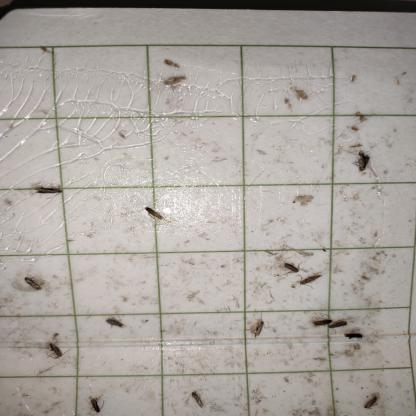prays_oleae: (35, 173, 65, 208), (245, 308, 270, 348), (350, 143, 375, 182), (21, 265, 44, 301), (295, 270, 329, 294), (143, 198, 166, 230), (48, 336, 65, 370), (328, 312, 352, 335), (105, 311, 126, 336), (187, 386, 205, 415), (360, 392, 382, 412), (284, 256, 302, 280), (342, 327, 368, 343), (88, 392, 106, 414), (312, 311, 332, 330)
